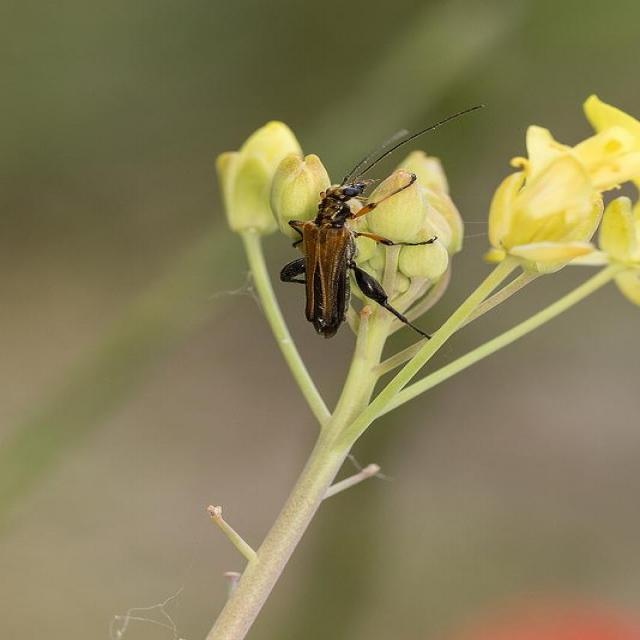BlisterBeetle-Adult-: (272, 113, 458, 350)
